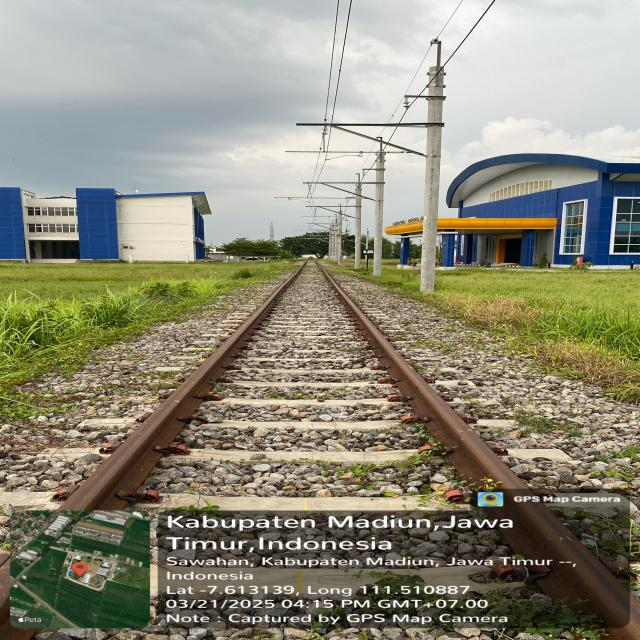rail-detection: (315, 260, 640, 640), (61, 260, 307, 510)
